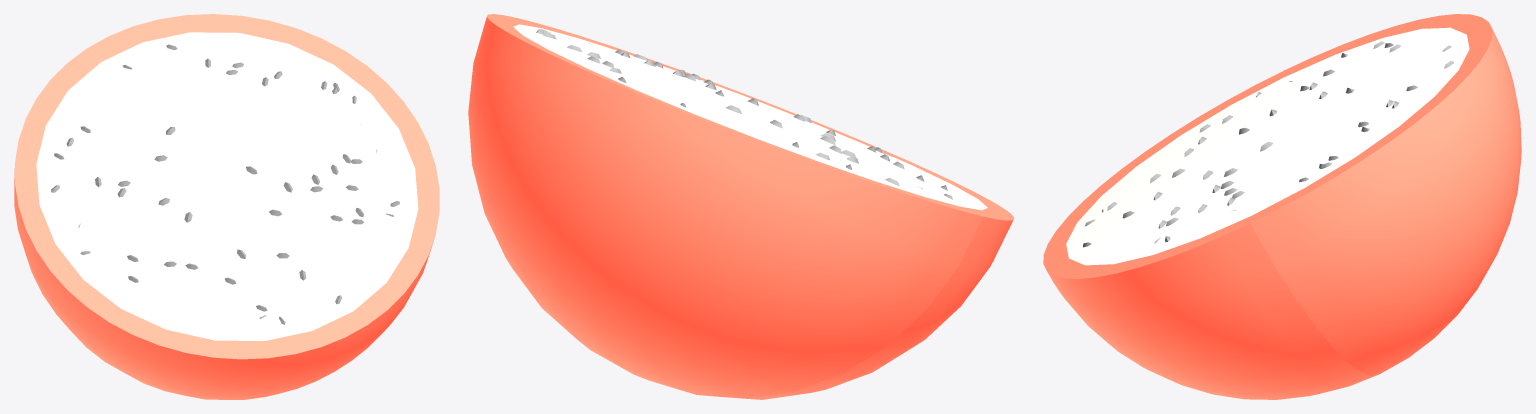
The model's file is DRAGON_FROOT.dae.
3 renders of one model, left to right at view 1: azimuth 30°, elevation 25°; view 2: azimuth 150°, elevation 25°; view 3: azimuth 270°, elevation 25°, orthographic. The views are drawn at different scales.
Parts seen in each view (by area): view 1: Oil_Tank.1, Capsule, Capsule_0.1; view 2: Capsule, Oil_Tank.1, Capsule_0.1; view 3: Capsule, Oil_Tank.1, Capsule_0.1.
Boxes of the visible parts, box(x1,y1,x2,y2) form: Oil_Tank.1: box(36, 32, 418, 340); Capsule: box(14, 14, 439, 399); Capsule_0.1: box(51, 44, 399, 324); Capsule: box(468, 14, 1014, 399); Oil_Tank.1: box(513, 24, 987, 210); Capsule_0.1: box(536, 28, 952, 199); Capsule: box(1043, 14, 1521, 399); Oil_Tank.1: box(1066, 27, 1469, 265); Capsule_0.1: box(1083, 41, 1453, 247).
Bounding box in the file's own units: 0.5964 × 0.4458 × 0.5649.
